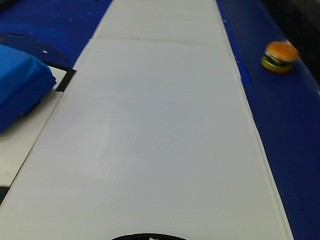burger: (259, 37, 302, 76)
